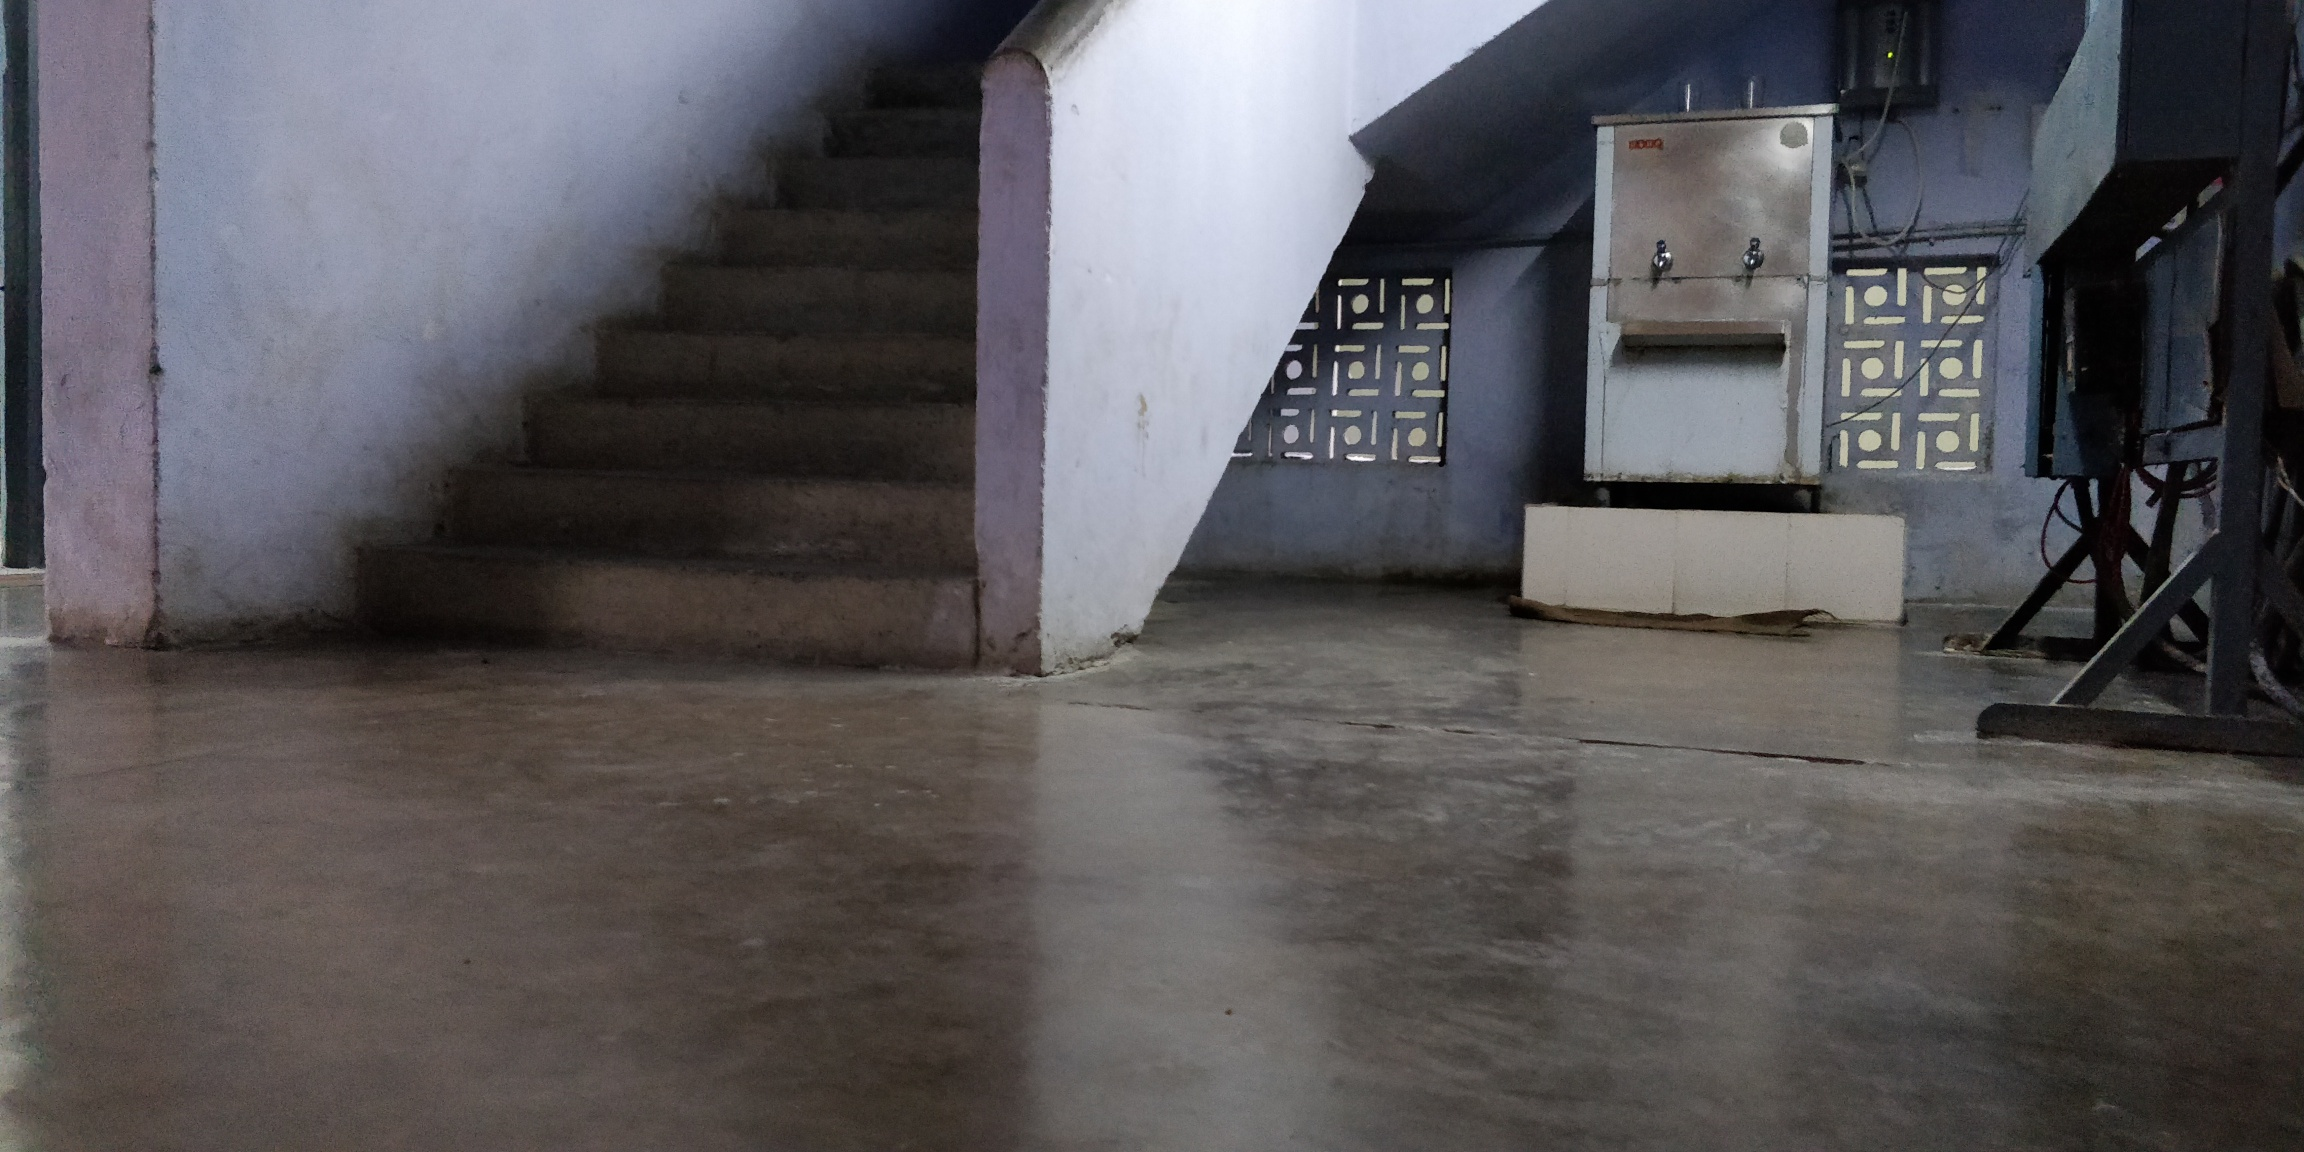stairs_up: (328, 57, 977, 683)
